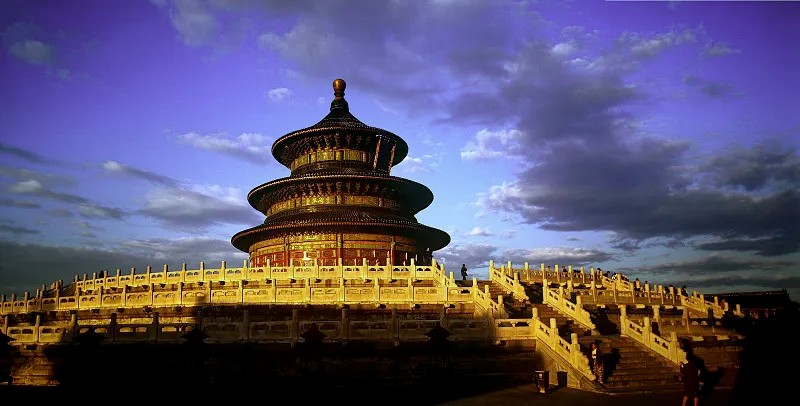Heaven: (230, 78, 452, 265)
